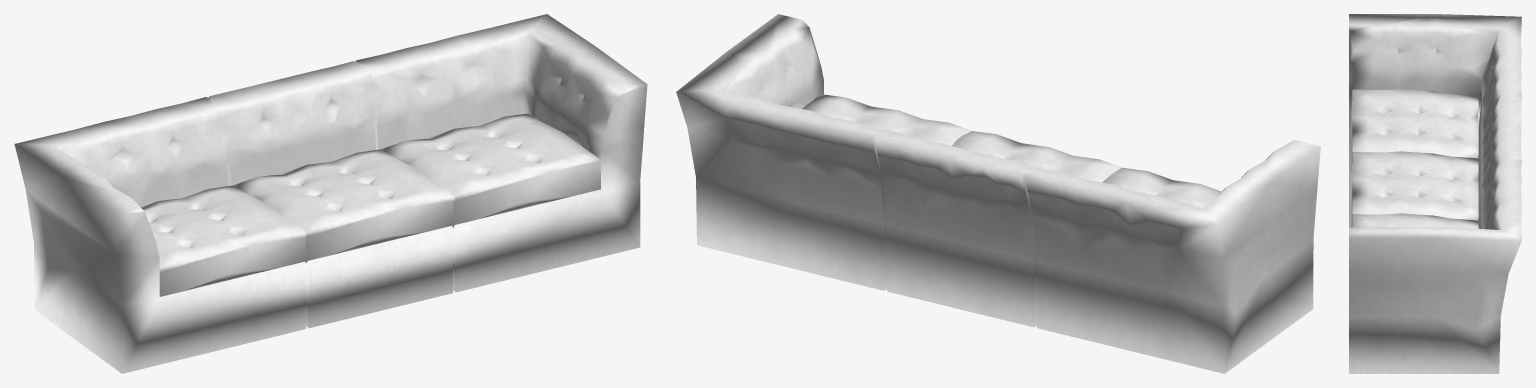
File: sofa_dark.glb
The picture shows the model from 3 angles, left to right: view 1: azimuth 30°, elevation 25°; view 2: azimuth 150°, elevation 25°; view 3: azimuth 270°, elevation 25°; orthographic projection. The views are drawn at different scales.
Parts seen in each view (by area): view 1: sofa_214; view 2: sofa_214; view 3: sofa_214.
Part boxes in pixels (x1,y1,x2,y2): sofa_214: [14, 14, 647, 373]; sofa_214: [676, 14, 1320, 373]; sofa_214: [1349, 14, 1521, 373].
Size of the model in its own units: 2.82 by 0.8174 by 0.9211.
Materials: 1 (1 with a texture image).
